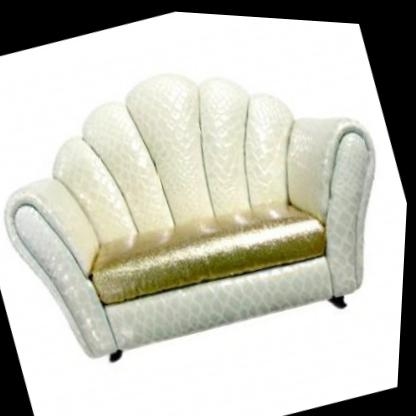Sofa: (0, 2, 416, 404)
